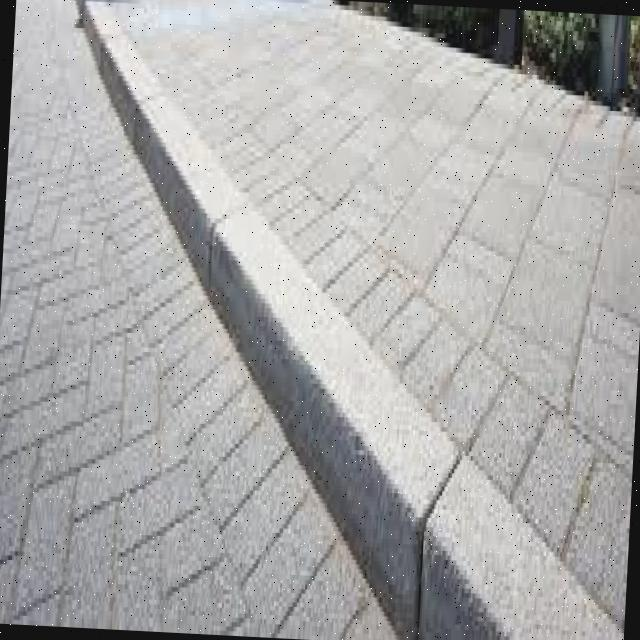curb: (207, 200, 454, 640), (133, 90, 242, 283)
